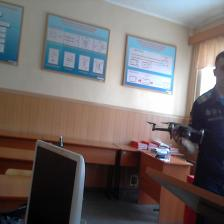drone: (147, 108, 208, 144)
